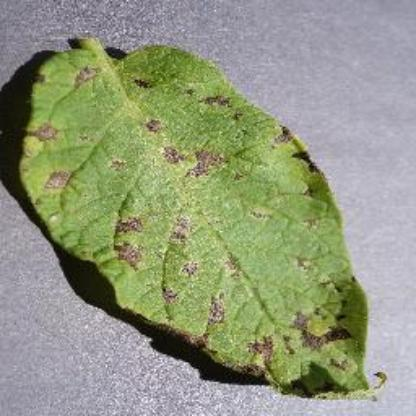Early-Blight: (20, 23, 386, 401)
